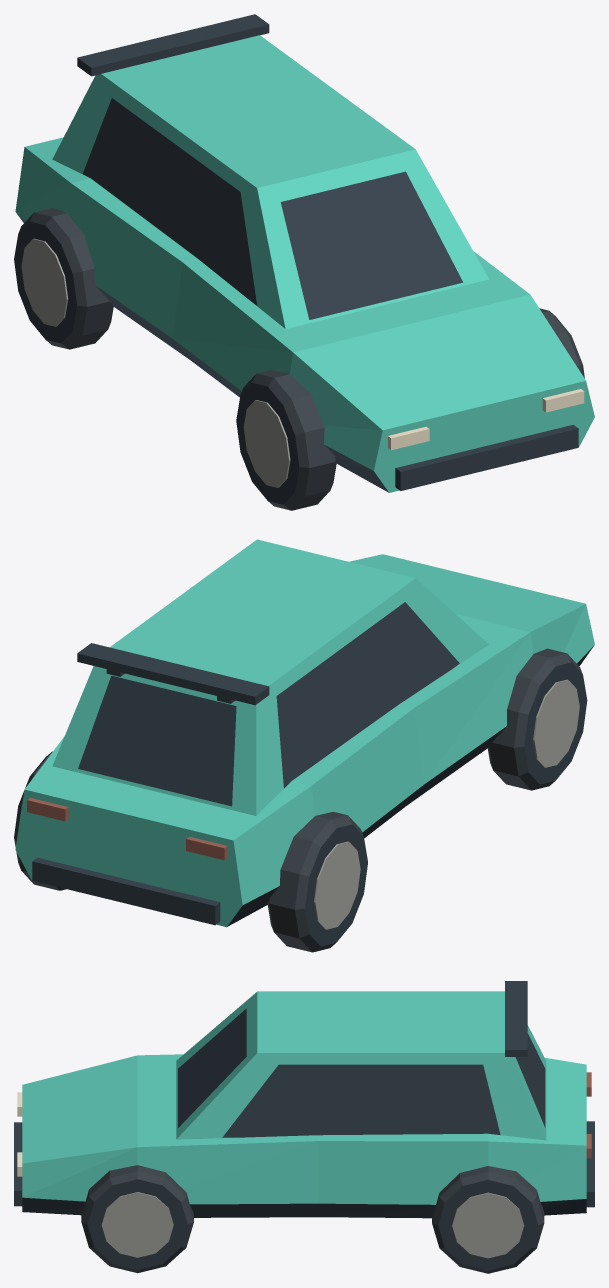
Rendered from rally.glb.
The picture shows the model from 3 angles, top to bottom: view 1: azimuth 30°, elevation 25°; view 2: azimuth 150°, elevation 25°; view 3: azimuth 270°, elevation 25°; orthographic projection. The views are drawn at different scales.
Parts seen in each view (by area): view 1: Cabin, Body, Wheel.FR, Trim, Wheel.RR, Wheel.FL; view 2: Cabin, Body, Trim, Wheel.RR, Wheel.FR, Wheel.RL; view 3: Body, Cabin, Wheel.FL, Wheel.RL, Trim.
Boxes of the visible parts, bbox=[...] form: Cabin: bbox=[52, 35, 488, 328]; Body: bbox=[15, 137, 594, 492]; Wheel.FR: bbox=[236, 370, 336, 510]; Trim: bbox=[77, 14, 584, 490]; Wheel.RR: bbox=[14, 208, 113, 349]; Wheel.FL: bbox=[539, 308, 584, 378]; Cabin: bbox=[52, 539, 488, 815]; Body: bbox=[15, 554, 594, 927]; Trim: bbox=[27, 643, 269, 925]; Wheel.RR: bbox=[267, 811, 367, 952]; Wheel.FR: bbox=[487, 648, 587, 790]; Wheel.RL: bbox=[14, 751, 66, 890]; Body: bbox=[22, 1054, 586, 1218]; Cabin: bbox=[176, 991, 546, 1140]; Wheel.FL: bbox=[81, 1165, 193, 1273]; Wheel.RL: bbox=[432, 1166, 544, 1273]; Trim: bbox=[14, 981, 594, 1207].
Size of the model in its own units: 1.91 by 1.6 by 4.13.
